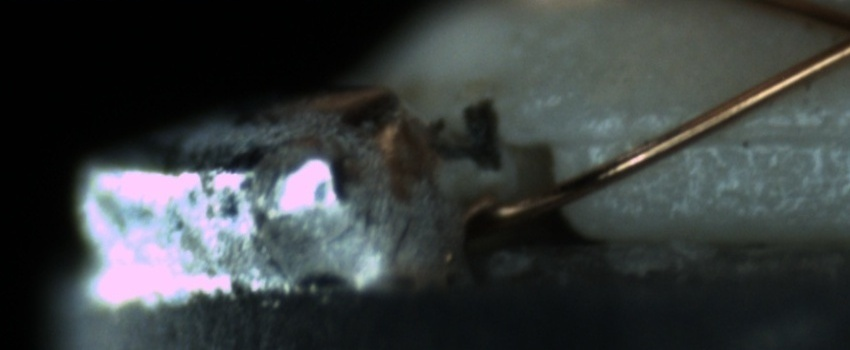CL: (807, 1, 850, 68)
DL: (576, 96, 844, 166)
